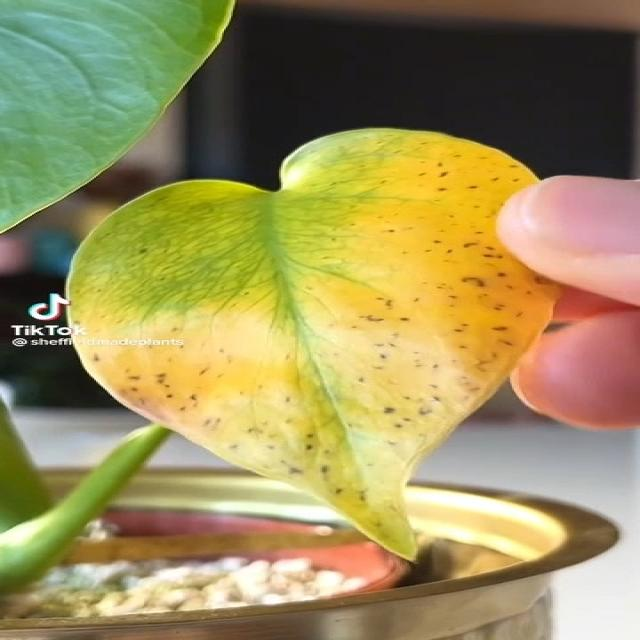lisc_przelany: (62, 128, 564, 564)
roslina_przelana: (0, 128, 560, 593)
